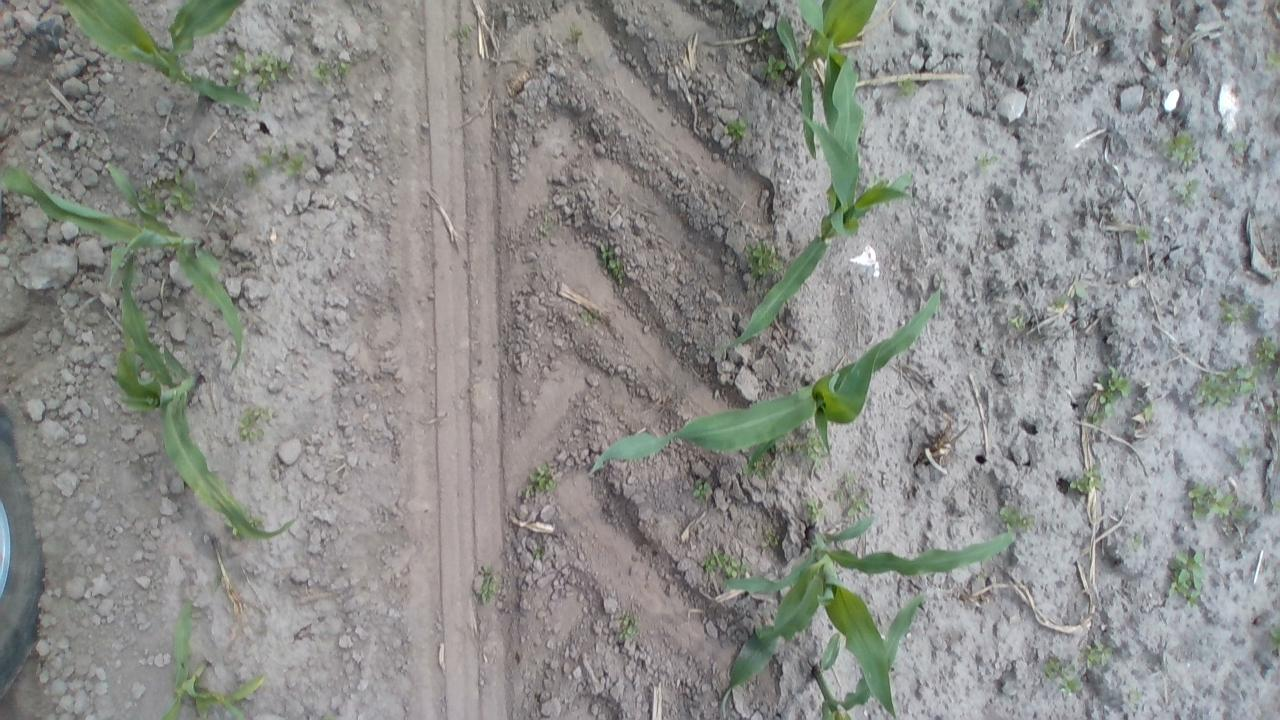Maize: (584, 289, 946, 481), (709, 512, 1009, 714), (724, 47, 914, 358), (4, 155, 254, 370), (105, 269, 299, 544), (59, 0, 261, 118), (772, 0, 884, 173), (809, 589, 926, 720), (154, 596, 272, 720)
Weeds: (1193, 362, 1259, 407), (1185, 482, 1250, 524), (1086, 366, 1131, 426), (232, 50, 294, 92), (1166, 548, 1206, 610), (142, 175, 200, 216), (744, 236, 784, 280), (700, 546, 751, 580), (1166, 127, 1200, 171), (234, 403, 271, 443), (594, 238, 625, 282), (1217, 296, 1258, 328), (310, 57, 358, 84), (1252, 334, 1280, 380), (524, 461, 557, 500), (996, 503, 1037, 532), (1066, 463, 1102, 496), (473, 562, 500, 604), (447, 20, 478, 50), (840, 488, 870, 518), (760, 52, 790, 82), (1082, 640, 1114, 668), (1060, 658, 1082, 696), (802, 431, 826, 463), (743, 452, 771, 479), (1039, 651, 1063, 681), (724, 116, 751, 142), (1177, 177, 1202, 205), (283, 149, 307, 178), (1262, 620, 1280, 656), (619, 610, 639, 642), (803, 498, 828, 522), (257, 148, 282, 172), (974, 150, 1001, 172), (896, 77, 918, 103), (1135, 398, 1158, 422), (838, 472, 860, 497), (1004, 309, 1028, 331), (758, 528, 780, 550), (1264, 47, 1280, 76), (1070, 280, 1090, 303), (1132, 224, 1152, 245), (242, 165, 262, 186), (1048, 295, 1070, 314), (1236, 442, 1254, 464), (578, 308, 598, 327), (1023, 0, 1046, 16), (1233, 134, 1249, 156), (693, 479, 711, 498), (1266, 400, 1280, 424), (758, 30, 776, 47), (1128, 533, 1144, 551), (568, 23, 584, 41), (320, 710, 344, 719)
